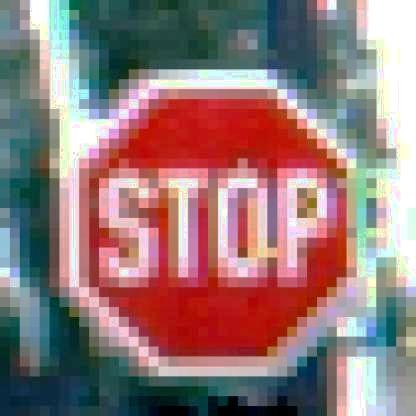Stop Sign: (66, 67, 367, 380)
